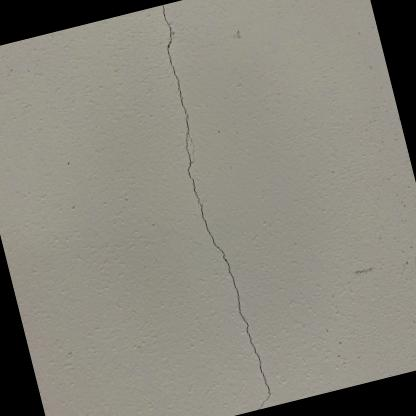crack: (162, 5, 270, 407)
